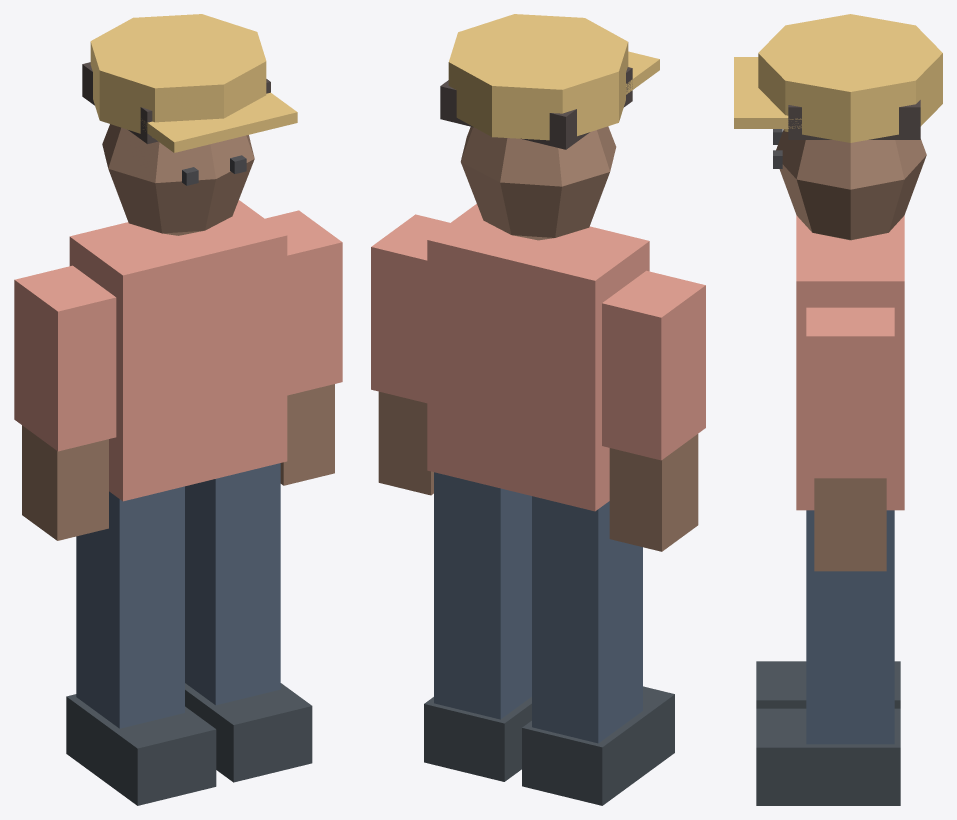
Rendered from player.glb.
3 views of the same model, side by side, from view 1: azimuth 30°, elevation 25°; view 2: azimuth 150°, elevation 25°; view 3: azimuth 270°, elevation 25° (orthographic). The views are drawn at different scales.
Parts seen in each view (by area): view 1: torso, leg (×2), upper_arm (×2), shoe (×2), cap, lower_arm (×2), head, cap_peak, hair; view 2: torso, leg (×2), upper_arm (×2), cap, shoe (×2), lower_arm (×2), head, hair, cap_peak; view 3: cap, leg, upper_arm, shoe (×2), torso, head, lower_arm, cap_peak, hair.
Boxes of the visible parts, bbox=[...] form: torso: bbox=[69, 200, 287, 501]; leg (×2): bbox=[76, 463, 280, 728]; upper_arm (×2): bbox=[14, 210, 342, 451]; shoe (×2): bbox=[66, 683, 312, 805]; cap: bbox=[90, 14, 266, 137]; lower_arm (×2): bbox=[22, 384, 334, 540]; head: bbox=[102, 124, 254, 235]; cap_peak: bbox=[142, 92, 297, 152]; hair: bbox=[82, 62, 270, 144]; torso: bbox=[427, 204, 649, 511]; leg (×2): bbox=[434, 472, 642, 743]; upper_arm (×2): bbox=[371, 214, 705, 460]; cap: bbox=[448, 14, 628, 140]; shoe (×2): bbox=[424, 686, 674, 805]; lower_arm (×2): bbox=[378, 391, 698, 551]; head: bbox=[460, 126, 616, 240]; hair: bbox=[440, 67, 632, 149]; cap_peak: bbox=[626, 51, 659, 94]; cap: bbox=[758, 14, 942, 142]; leg: bbox=[806, 510, 894, 744]; upper_arm: bbox=[806, 307, 894, 478]; shoe (×2): bbox=[756, 661, 900, 805]; torso: bbox=[796, 215, 904, 510]; head: bbox=[776, 130, 926, 240]; lower_arm: bbox=[814, 478, 886, 571]; cap_peak: bbox=[734, 57, 801, 128]; hair: bbox=[788, 100, 920, 139].
Size of the model in its own units: 0.83 by 1.95 by 0.52.
